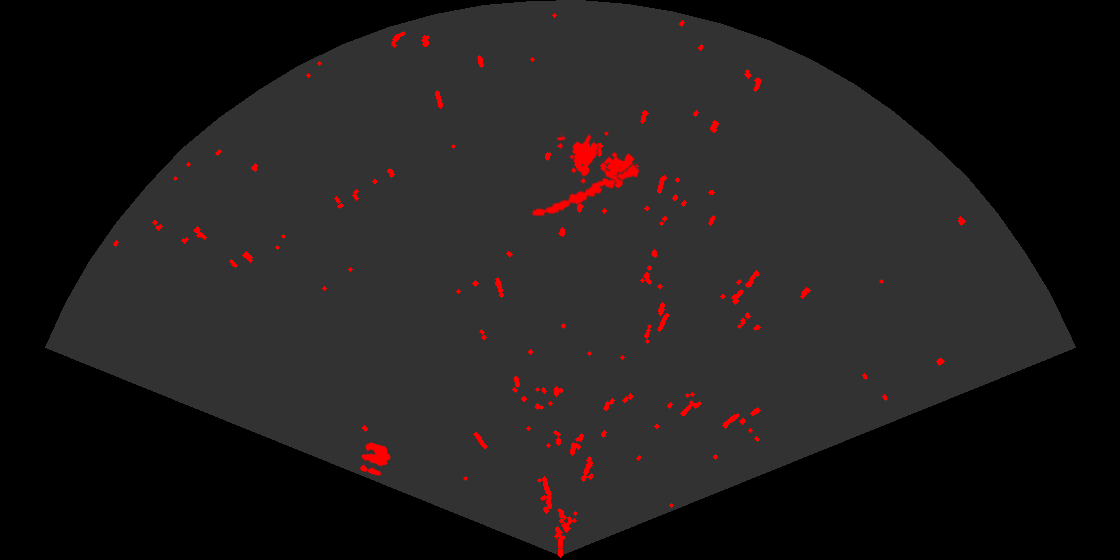ball: (358, 441, 392, 477)
cage: (557, 132, 636, 190)
chain: (530, 163, 641, 218)
